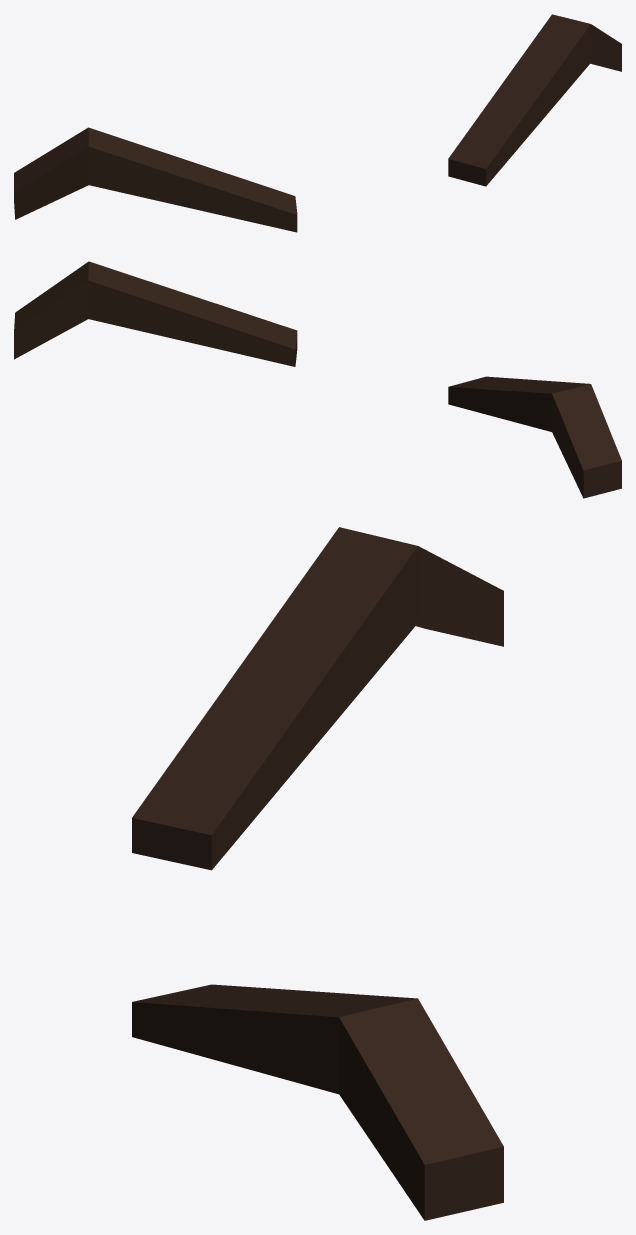
The model's file is AngryEyebrowsF.glb.
3 renders of one model, top to bottom at view 1: azimuth 30°, elevation 25°; view 2: azimuth 150°, elevation 25°; view 3: azimuth 270°, elevation 25°, orthographic. The views are drawn at different scales.
Parts seen in each view (by area): view 1: AngryEyebrowsF.001; view 2: AngryEyebrowsF.001; view 3: AngryEyebrowsF.001.
Boxes of the visible parts, x1=… form: AngryEyebrowsF.001: x1=14, y1=14, x2=621, y2=232; AngryEyebrowsF.001: x1=14, y1=261, x2=621, y2=498; AngryEyebrowsF.001: x1=132, y1=527, x2=503, y2=1220.
Size of the model in its own units: 1.52 by 0.2067 by 0.4034.
